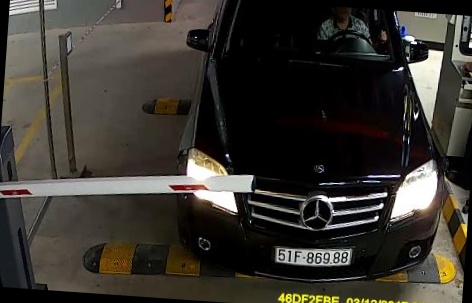plate: (270, 241, 354, 274)
